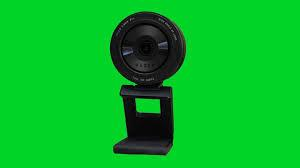webcam: (110, 12, 185, 154)
